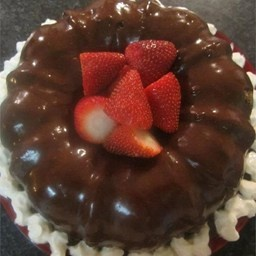background: (0, 0, 102, 102)
